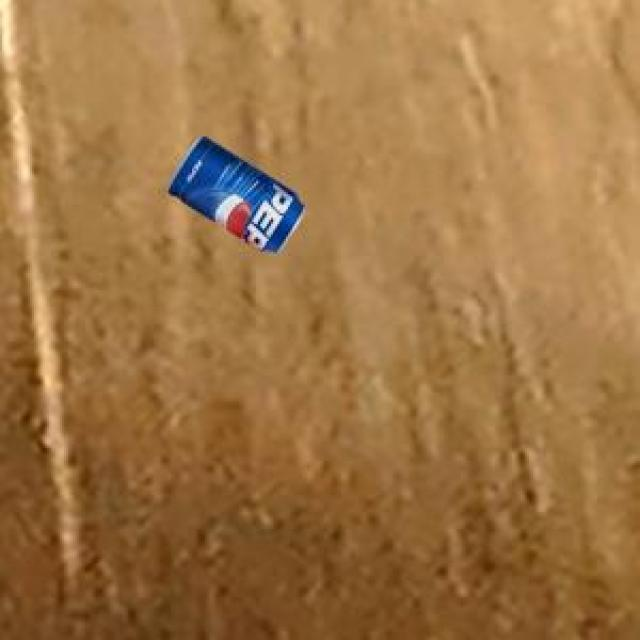Can: (165, 133, 302, 249)
